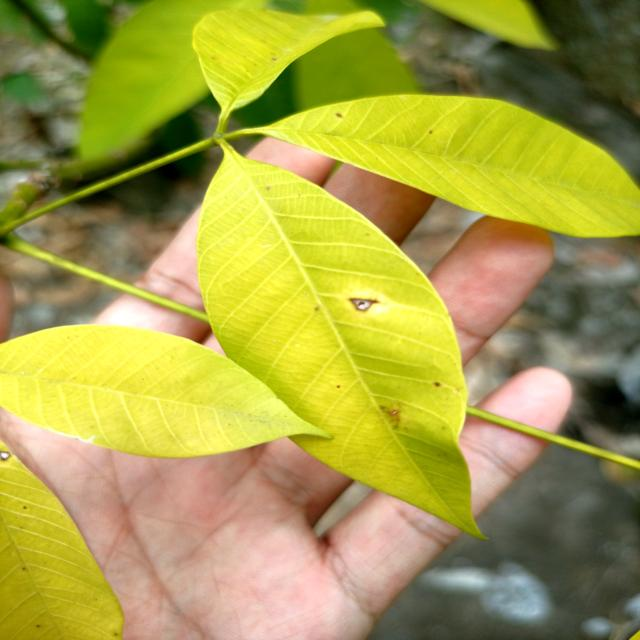Colletotrichum: (0, 451, 11, 461)
